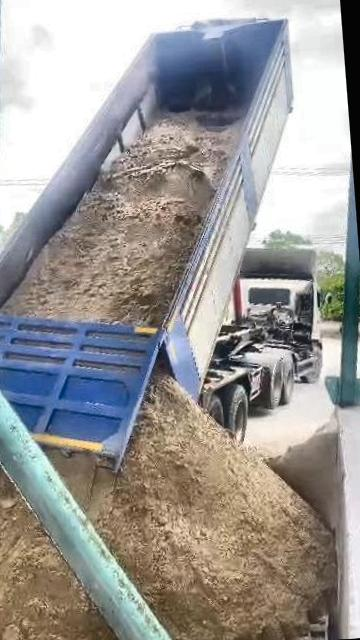sand: (51, 378, 335, 640), (1, 113, 238, 325), (0, 433, 121, 640), (268, 419, 343, 534), (149, 351, 172, 384)
